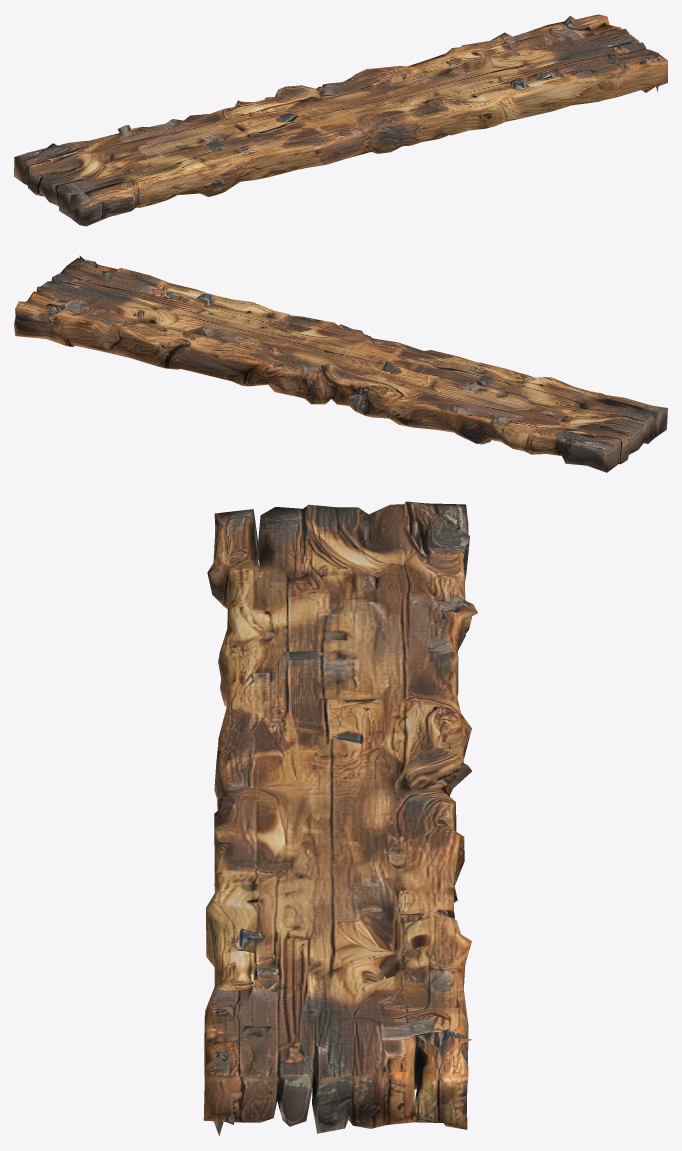
The model's file is plank.glb.
3 views of the same model, one above another, from view 1: azimuth 30°, elevation 25°; view 2: azimuth 150°, elevation 25°; view 3: azimuth 270°, elevation 25° (orthographic). The views are drawn at different scales.
Visible parts, largest first — view 1: tripo_node_ff22073e-df0f-4790-8206-c557e137a8af; view 2: tripo_node_ff22073e-df0f-4790-8206-c557e137a8af; view 3: tripo_node_ff22073e-df0f-4790-8206-c557e137a8af.
Part boxes in pixels (box(x1,y1,x2,y2)): tripo_node_ff22073e-df0f-4790-8206-c557e137a8af: box(14, 14, 667, 226); tripo_node_ff22073e-df0f-4790-8206-c557e137a8af: box(14, 255, 667, 472); tripo_node_ff22073e-df0f-4790-8206-c557e137a8af: box(203, 501, 477, 1135).
Bounding box in the file's own units: 0.7787 × 0.05 × 0.1569.
Materials: 1 (1 with a texture image).
